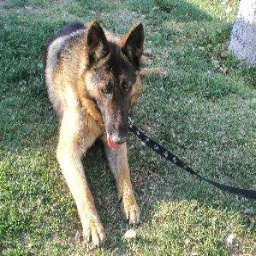dog: (39, 21, 149, 242)
